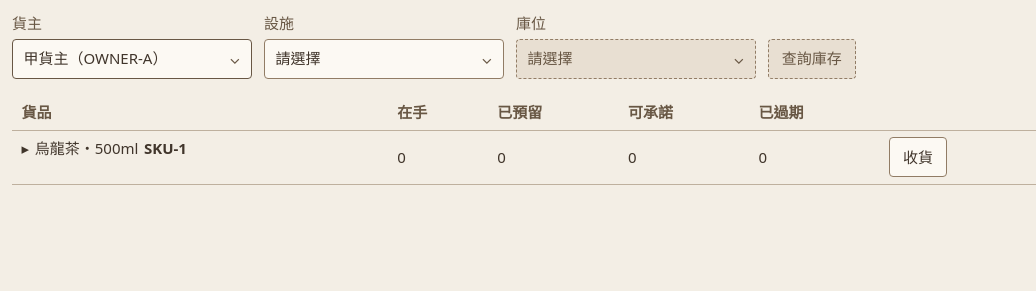
Test: StockPanel 的展開 › 過期的批要顯示並標記，不得被濾掉
Click the button "▸ 烏龍茶・500ml SKU-1": (104, 157) [22,137,187,177]
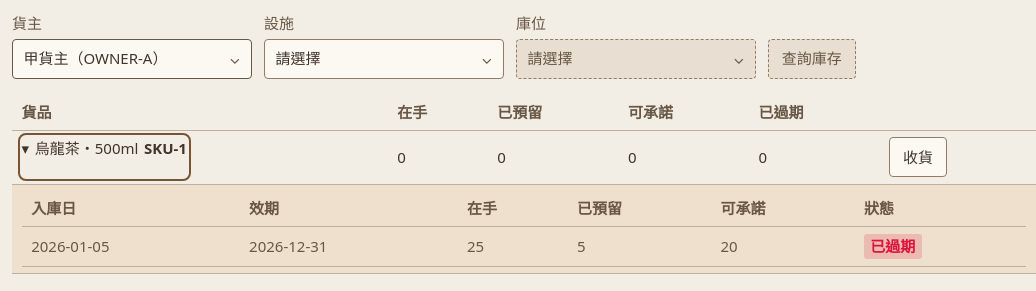
Now the text "已過期" is shown, box [864,234,922,259]
Now the text "25" is shown, box [457,227,567,266]
